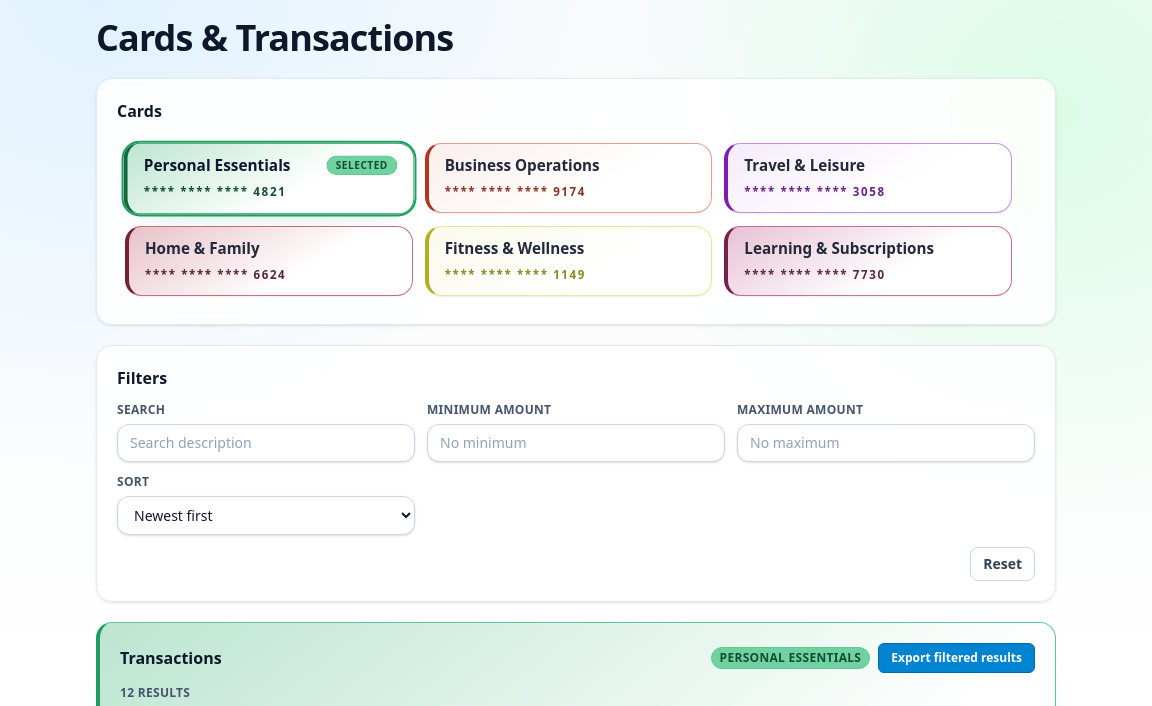
CardsOverview integration › switches cards and updates the transaction list
The width and height of the screenshot is (1152, 706).
Step 1. Click the button with aria-label "business operations, card ending" → [522, 165], box [425, 143, 712, 213]
(page scrolled)
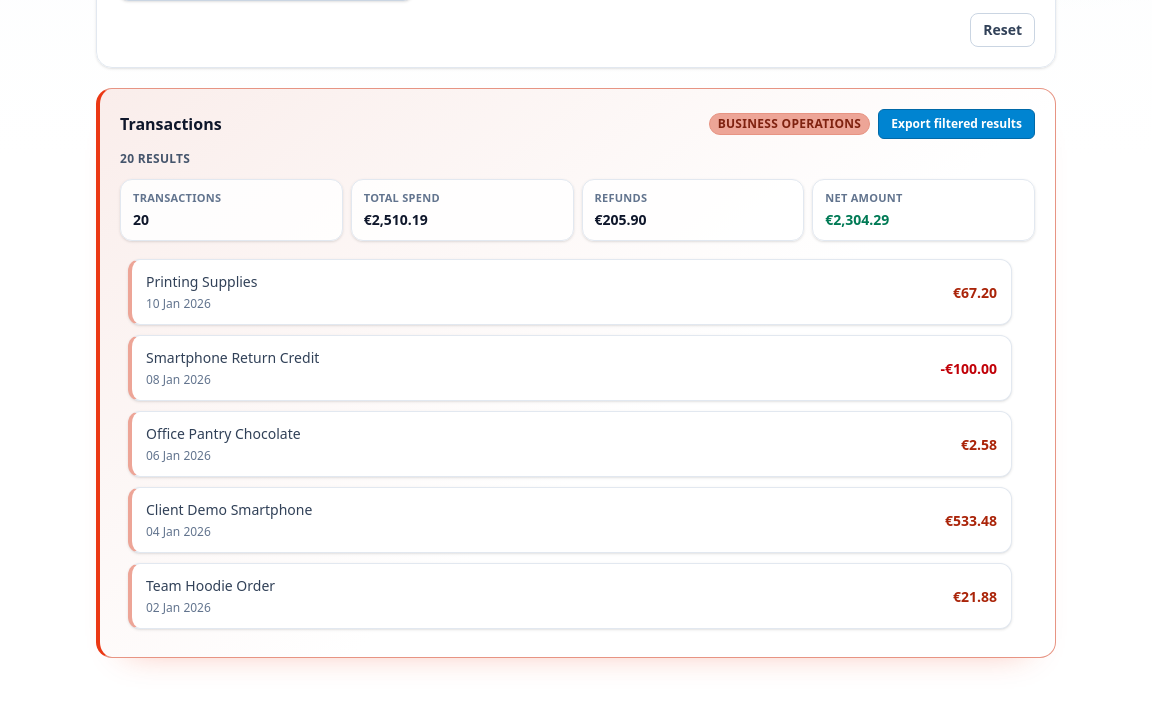
expect the text "Client Demo Smartphone" is shown: met, box [146, 500, 312, 520]
